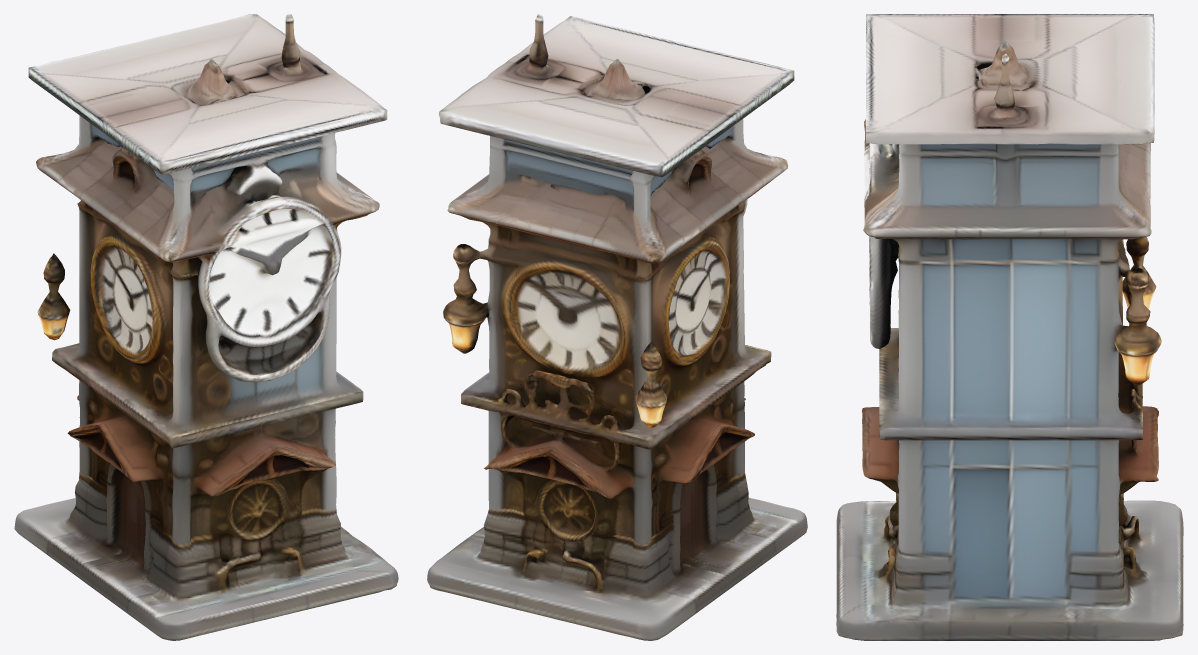
File: base_basic_shaded.fbx
The picture shows the model from 3 angles, left to right: view 1: azimuth 30°, elevation 25°; view 2: azimuth 150°, elevation 25°; view 3: azimuth 270°, elevation 25°; orthographic projection. The views are drawn at different scales.
Parts seen in each view (by area): view 1: model; view 2: model; view 3: model.
Boxes of the visible parts, left/top/right/bottom form: model: left=14, top=14, right=398, bottom=640; model: left=427, top=14, right=807, bottom=640; model: left=836, top=14, right=1183, bottom=640.
Bounding box in the file's own units: 82.96 × 175 × 96.69.
